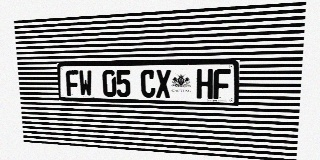0: (102, 70, 117, 97)
5: (116, 70, 131, 97)
C: (141, 70, 155, 98)
F: (213, 69, 231, 99), (66, 70, 79, 96)
H: (197, 69, 213, 99)
W: (79, 70, 93, 96)
X: (156, 69, 171, 98)
